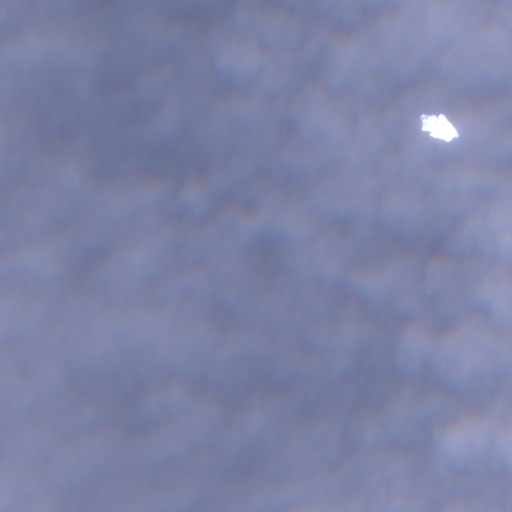Iceberg: (420, 114, 458, 141)
